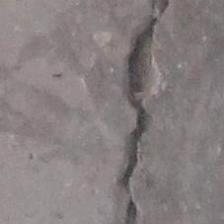Crack: (103, 0, 205, 224)
